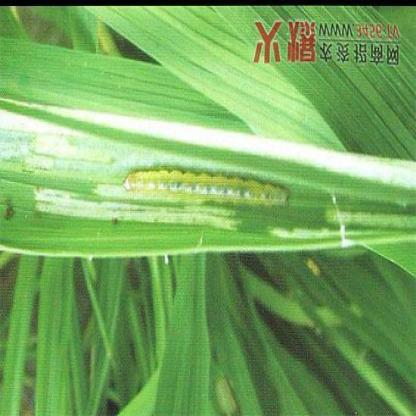leaf-folder: (112, 139, 286, 234)
